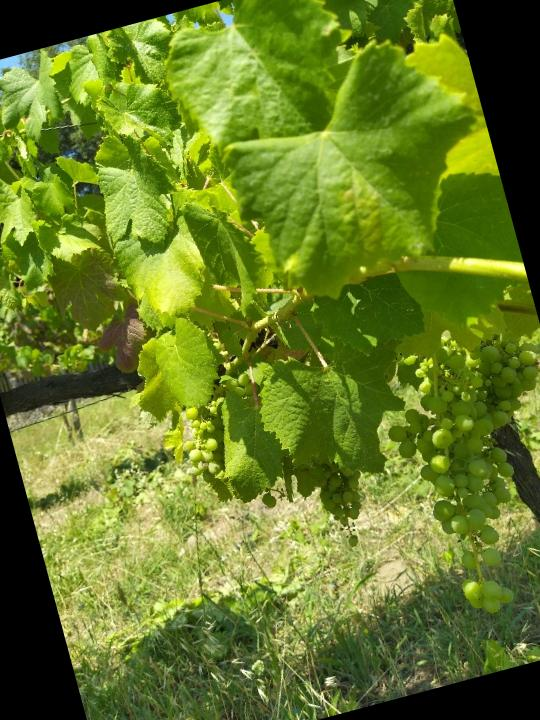grape: (361, 319, 540, 635)
